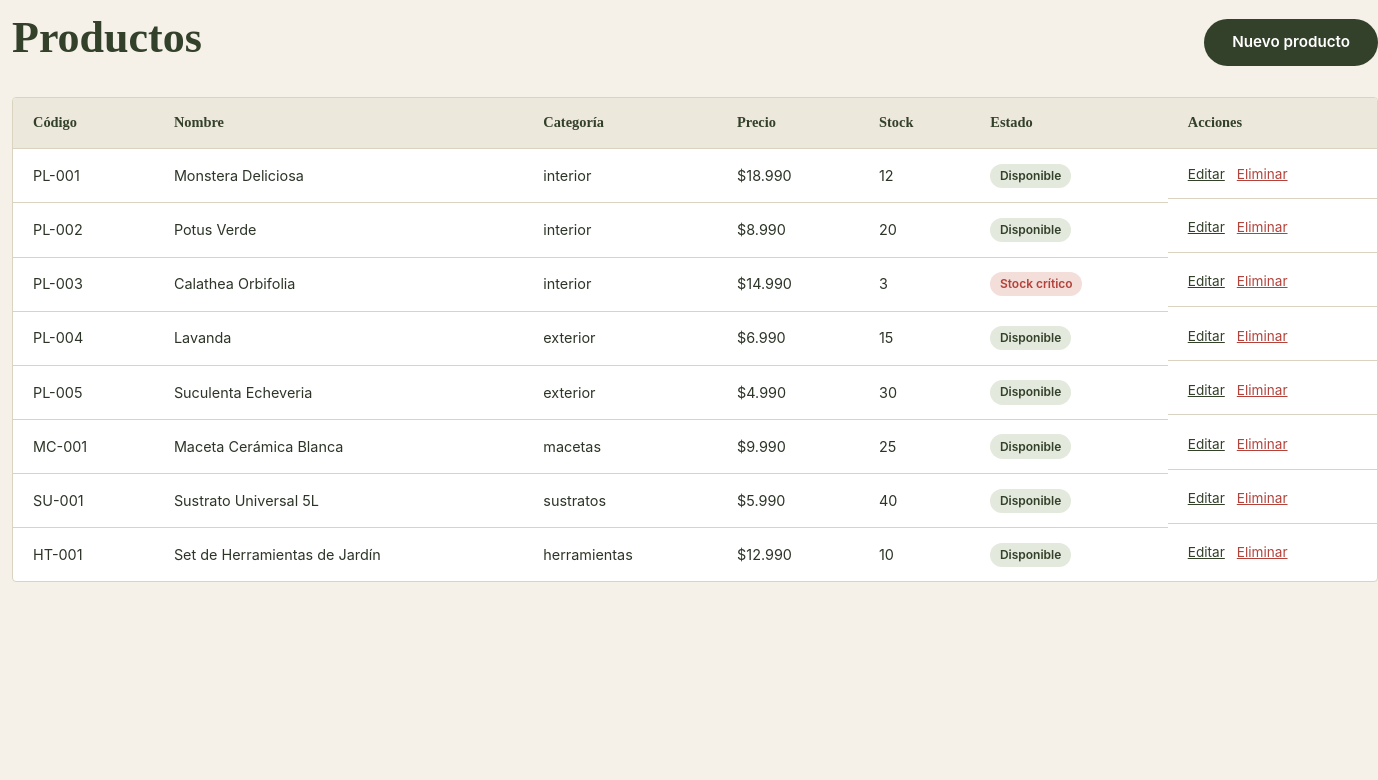
Scenario: AdminProductos › muestra el error de la API si no se puede eliminar
Click the button "Eliminar" in the row of "PL-004" at (1262, 336), box x1=1237 y1=326 x2=1288 y2=346
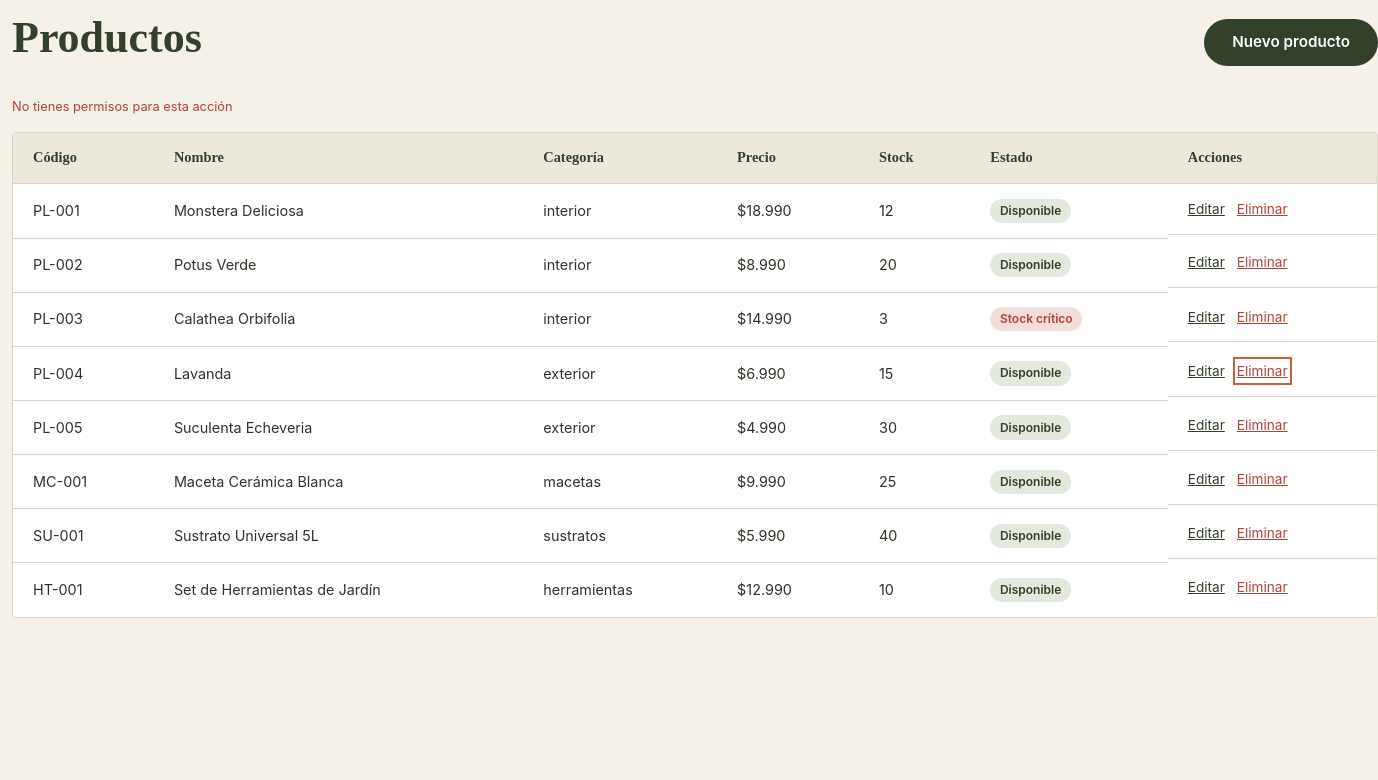
Expected: the text "Lavanda" is shown, x1=154 y1=346 x2=523 y2=400
Now the message reads "No tienes permisos para esta acción", box x1=12 y1=99 x2=233 y2=114
